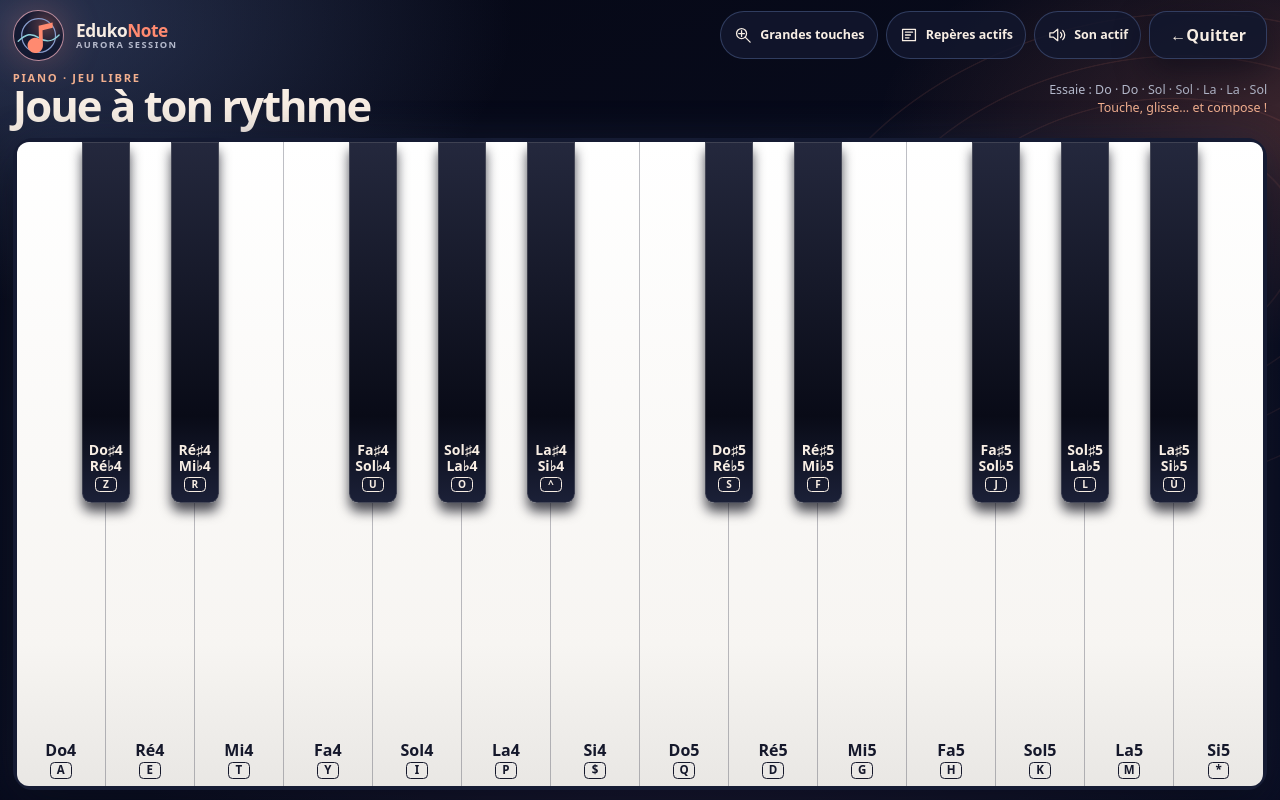
Scenario: free piano › renders two labelled octaves and can hide every visual marker
Expected: the heading "Joue à ton rythme" is shown, [13,85,370,127]
Expected: the button with aria-label "Do4, raccourci A" is shown, [17,142,106,786]
Click the button with aria-label "Masquer les repères du piano" at (956, 35), box [886,11,1026,59]
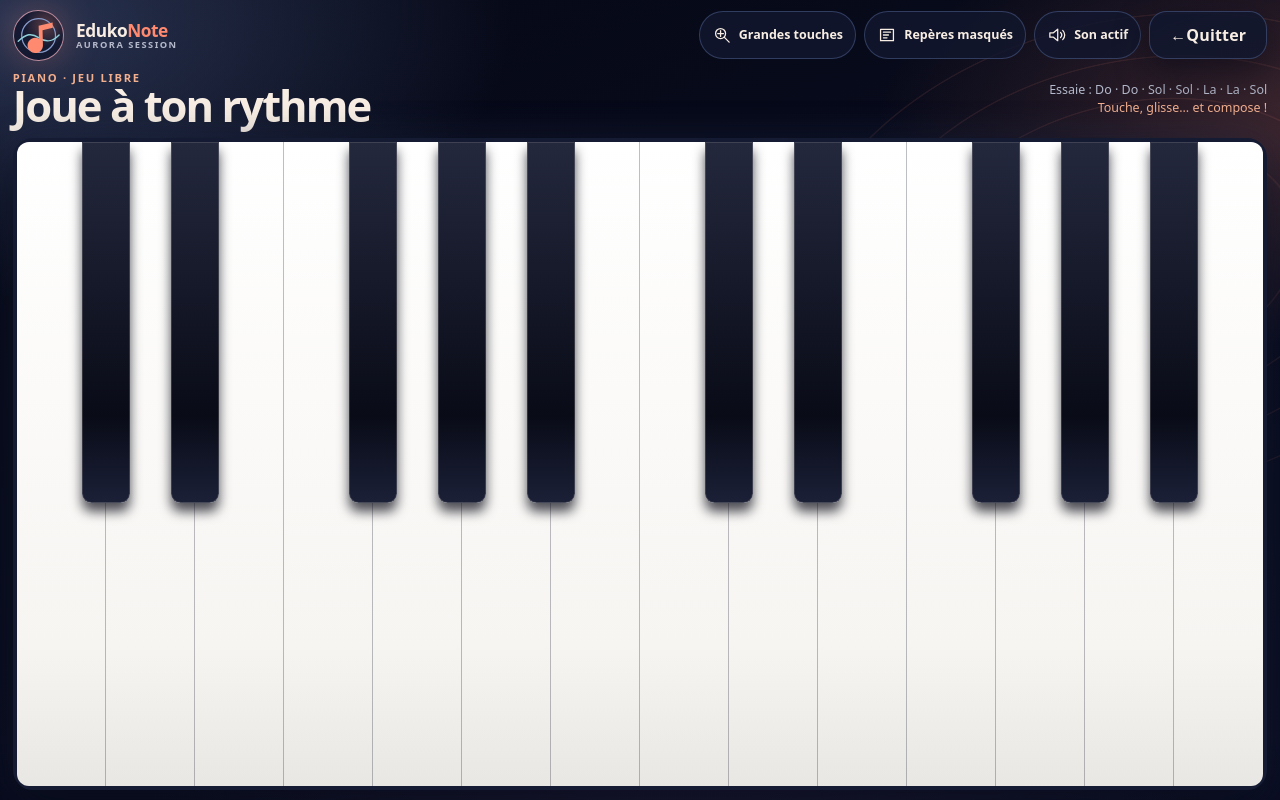
Now the button with aria-label "Afficher les repères du piano" is shown, box [864,11,1026,59]
